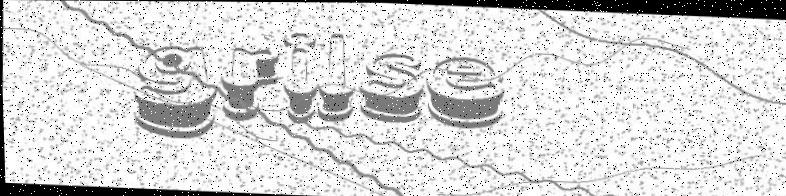e: (426, 54, 505, 129)
g: (132, 44, 217, 140)
i: (281, 32, 320, 123)
l: (317, 32, 356, 122)
r: (219, 45, 280, 121)
s: (358, 51, 426, 123)
